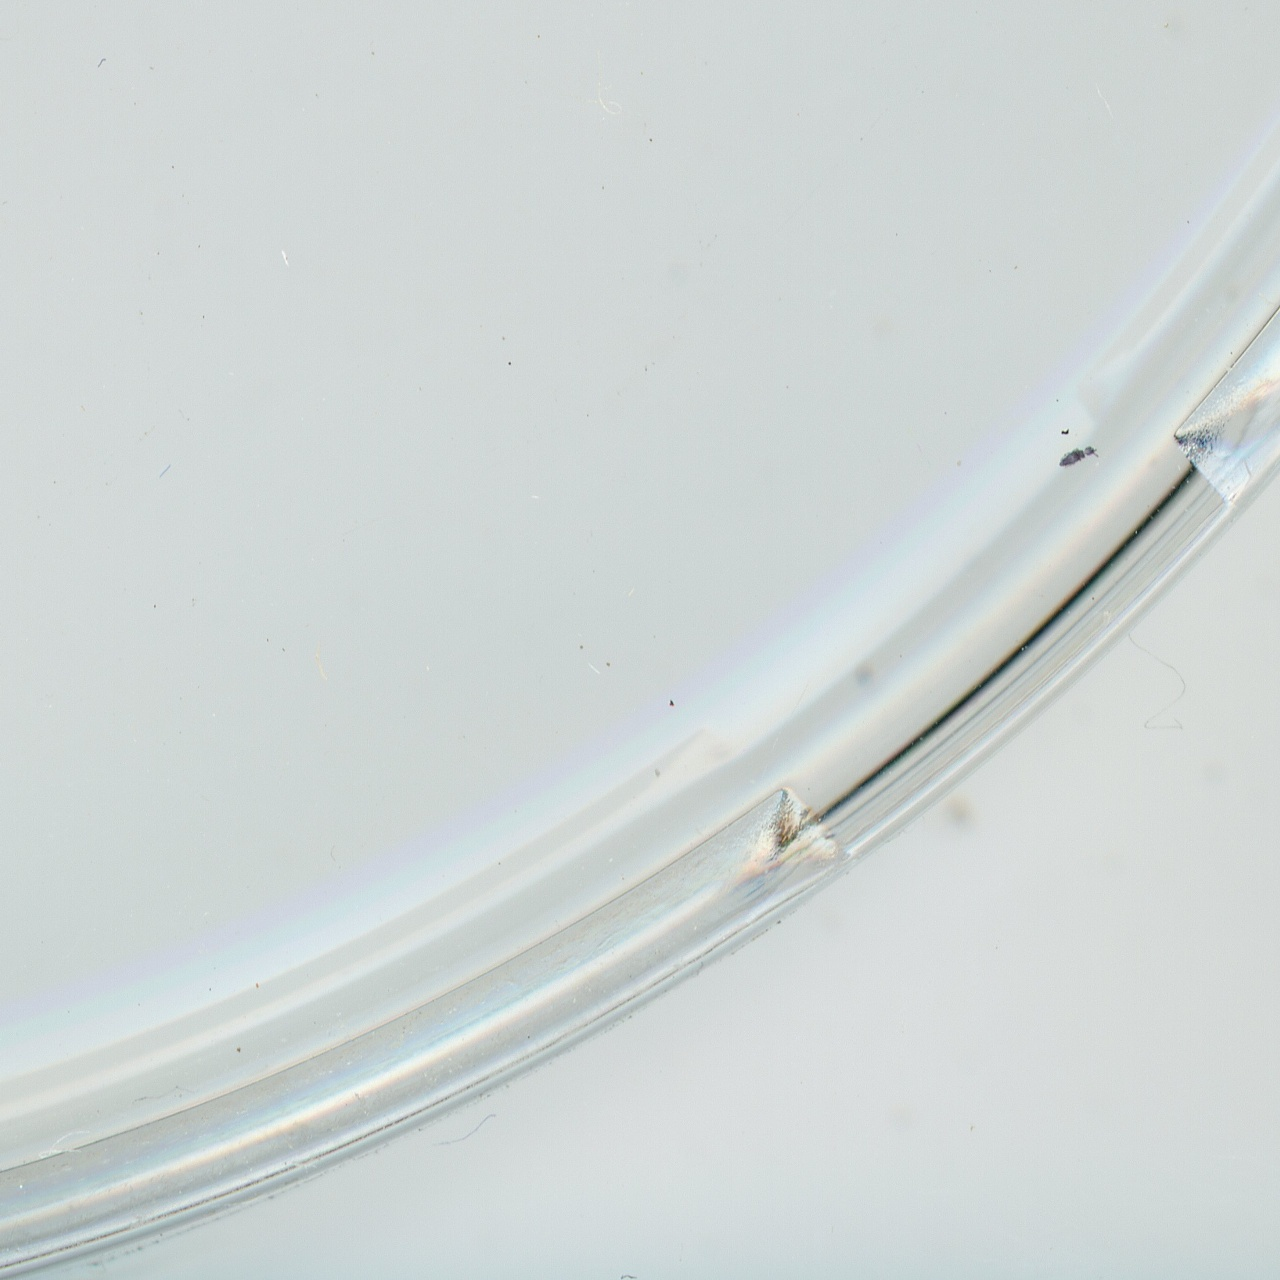arthropod: (1054, 441, 1101, 474)
